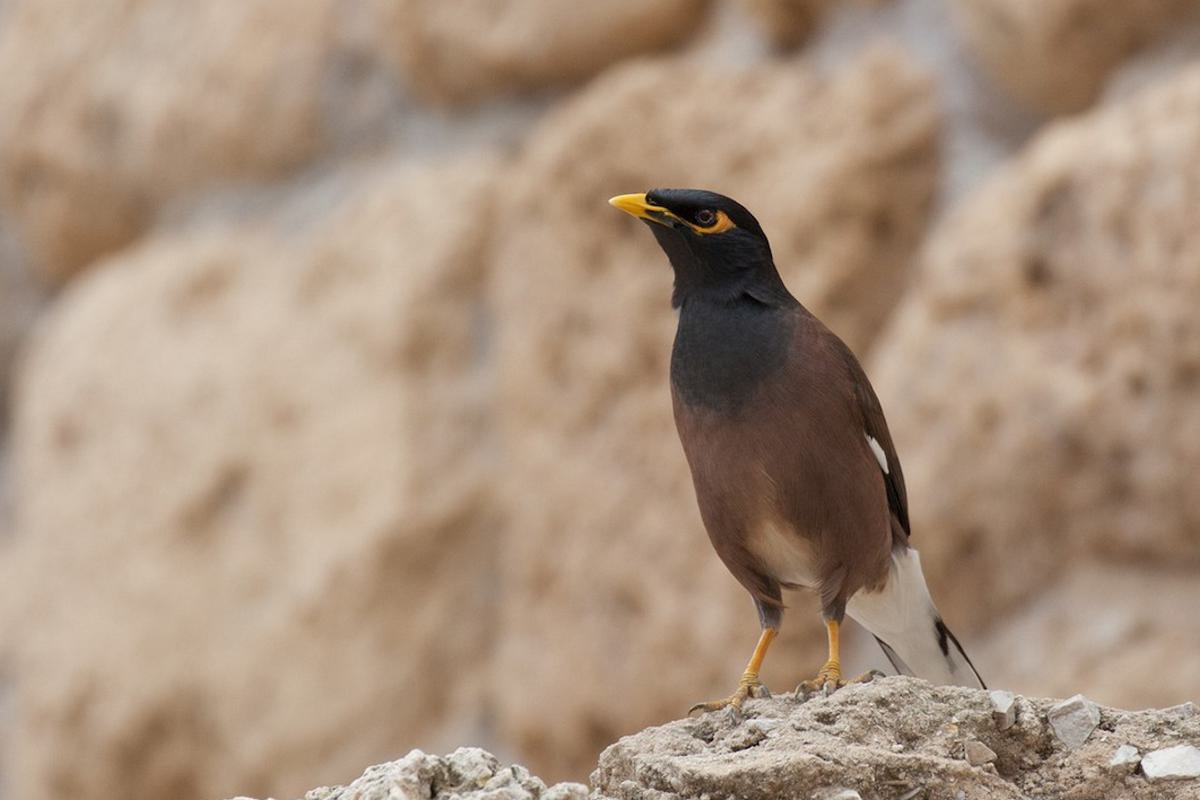myna: (601, 172, 1003, 754)
